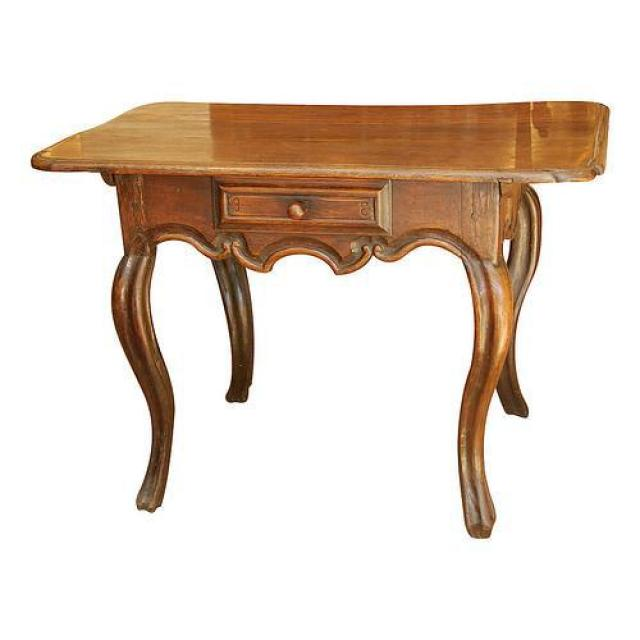table: (29, 101, 612, 540)
